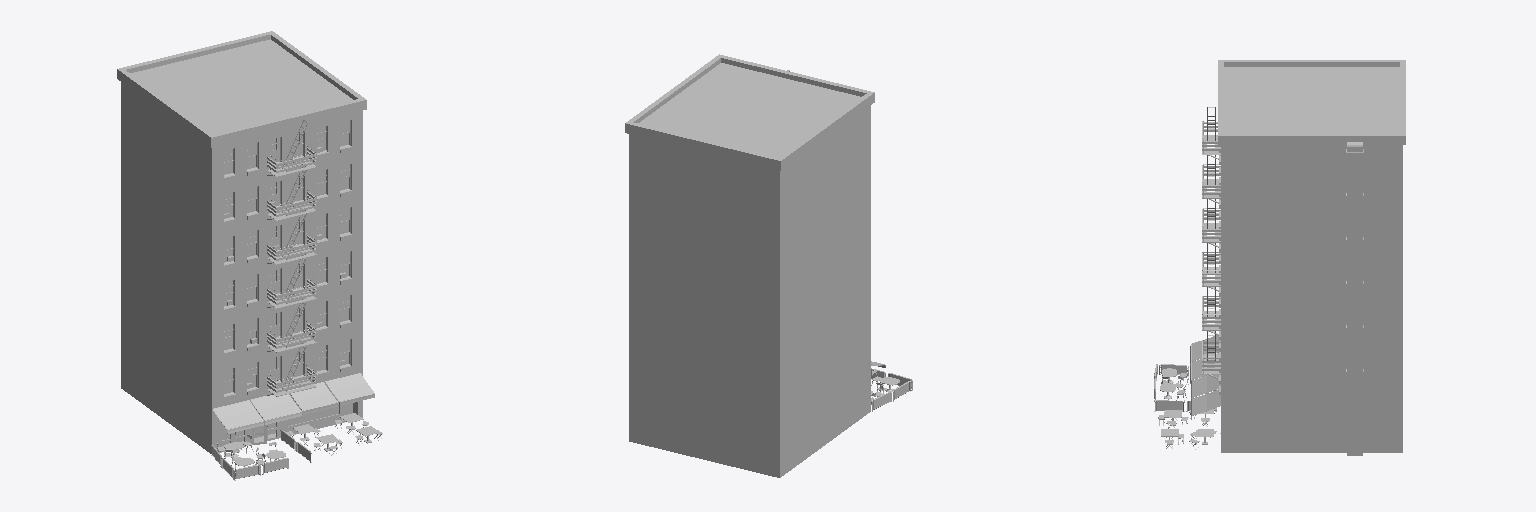
Rendered from NY_House_Textured.obj.
3 renders of one model, left to right at view 1: azimuth 30°, elevation 25°; view 2: azimuth 150°, elevation 25°; view 3: azimuth 270°, elevation 25°, orthographic.
Visible parts, largest first — view 1: Cube; view 2: Cube; view 3: Cube.
Boxes of the visible parts, <box> form: Cube: <box>117,31,382,480</box>; Cube: <box>625,54,912,477</box>; Cube: <box>1154,60,1405,455</box>.
Size of the model in its own units: 19.2 by 34.88 by 25.02.